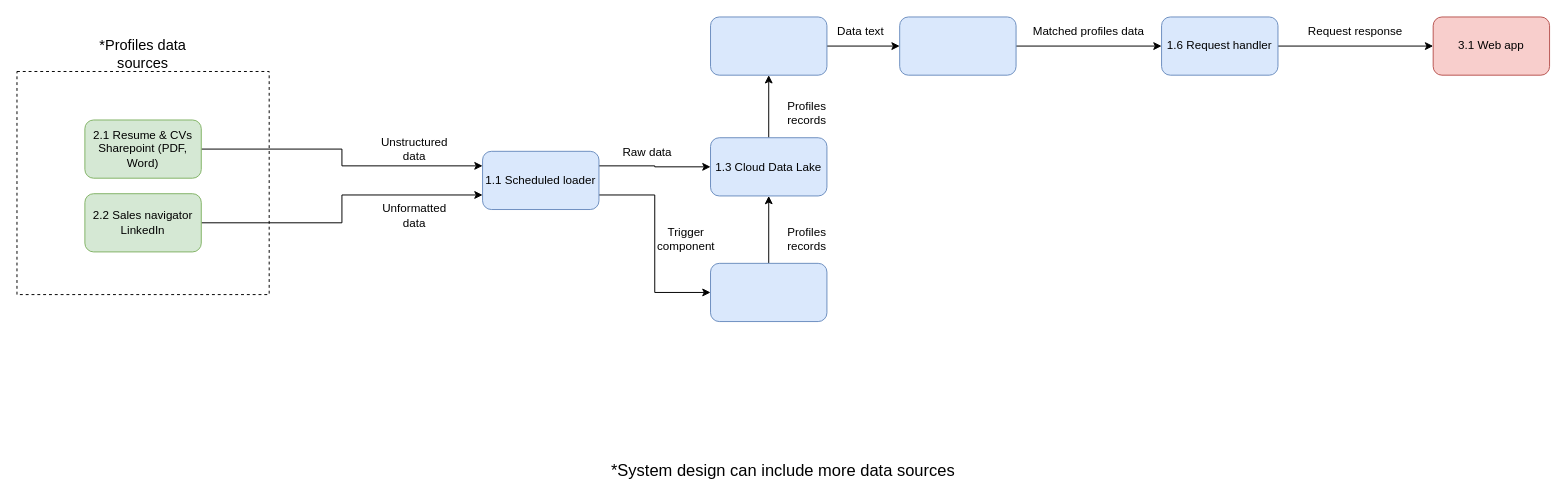
The diagram is 1567 pixels wide and 503 high, and some of its shapes have lost their labels. Here are the shapes that lost their labels. From the top down, the centre of each, then its label:
the point at 768,45: 1.2 Formatter
the point at 957,45: 1.5 AI model for processing text and rating
the point at 768,292: 1.4 Observer of new records, updating and deleting
